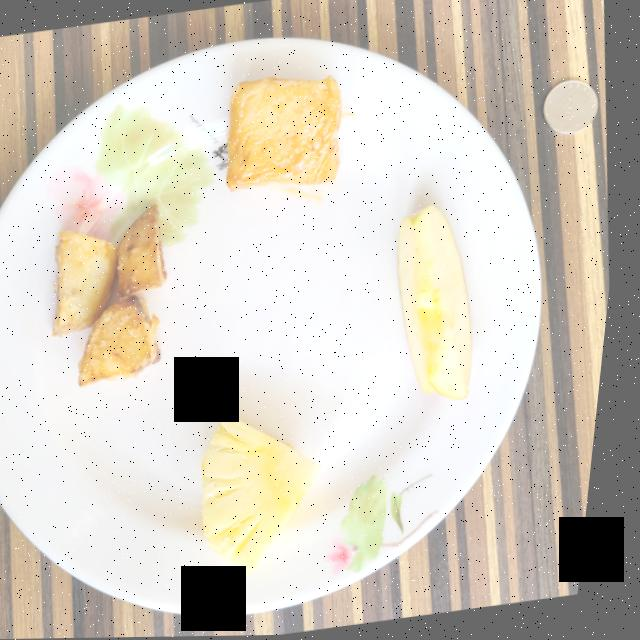apple -sliced-: (402, 206, 479, 401)
coin: (545, 81, 599, 136)
creamy tofu: (229, 76, 343, 192)
fried potato: (59, 205, 171, 387)
pineapple: (211, 413, 330, 574)
